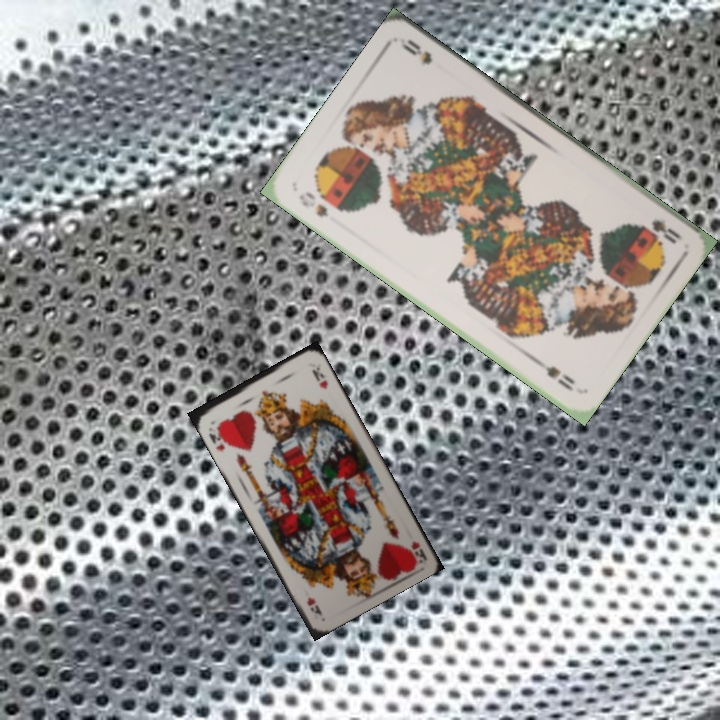HK: (204, 422, 232, 454), (406, 537, 429, 564)
SO: (635, 215, 686, 247), (294, 187, 331, 220)
